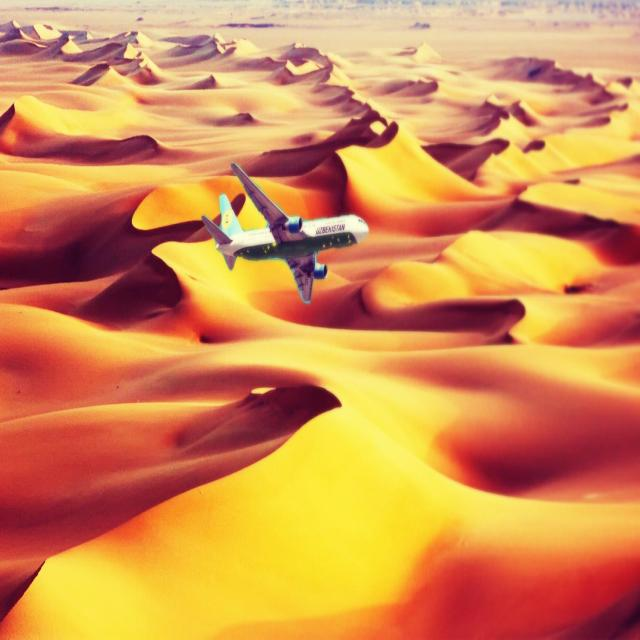airplane: (201, 160, 369, 305)
